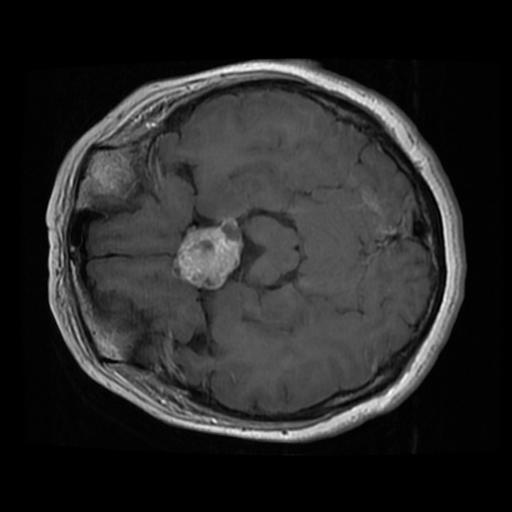pituitary tumour: (176, 226, 237, 289)
